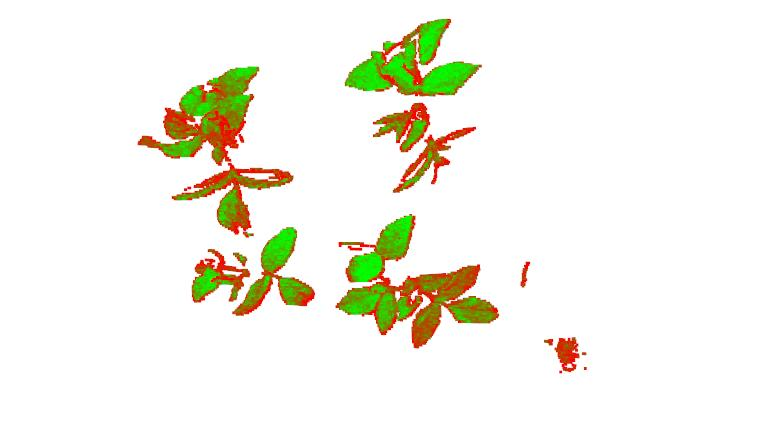mungbean: (138, 66, 294, 237), (343, 19, 484, 194), (338, 214, 501, 351), (189, 229, 317, 317)
